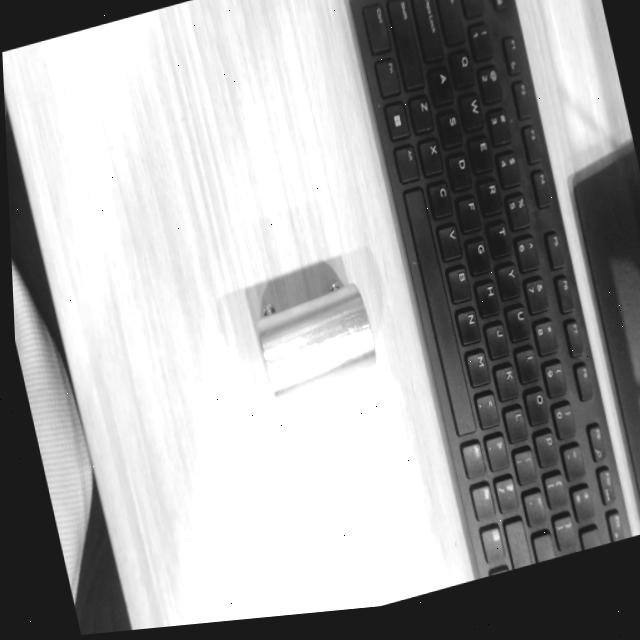Co_Lon: (243, 279, 386, 404)
